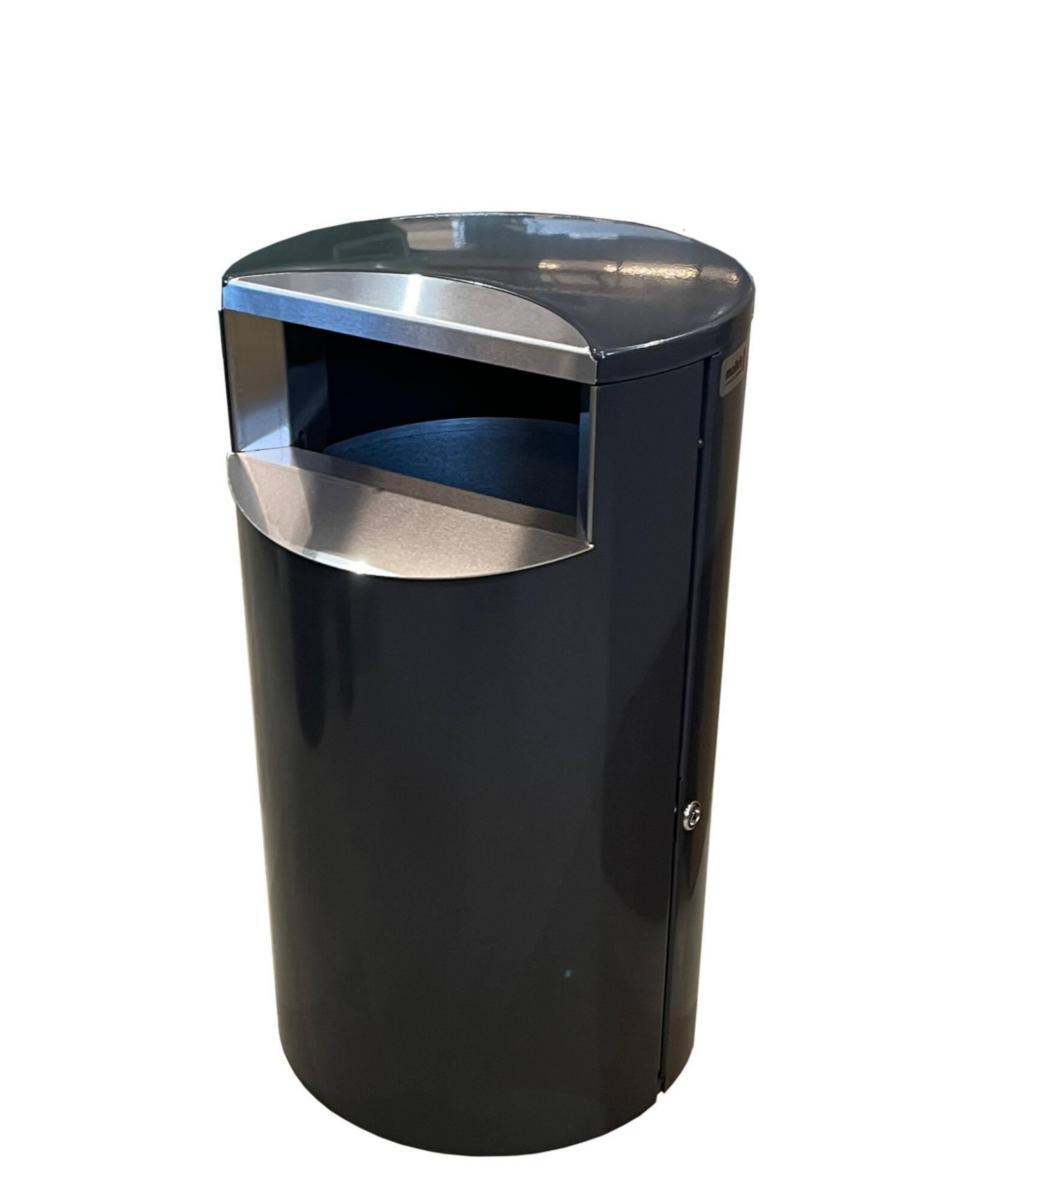trash bin: (212, 207, 769, 1163)
